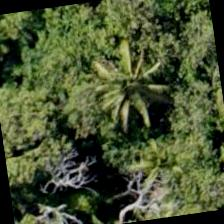Kelapa_Sawit: (77, 26, 178, 128)
